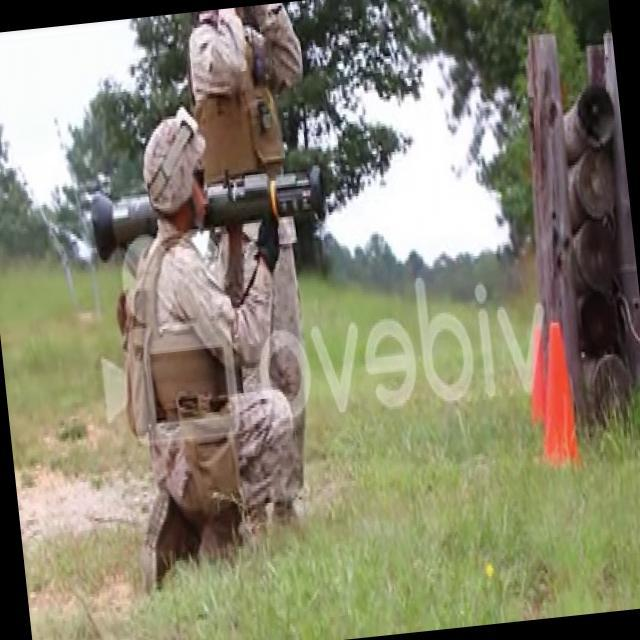rocket: (90, 168, 326, 256)
